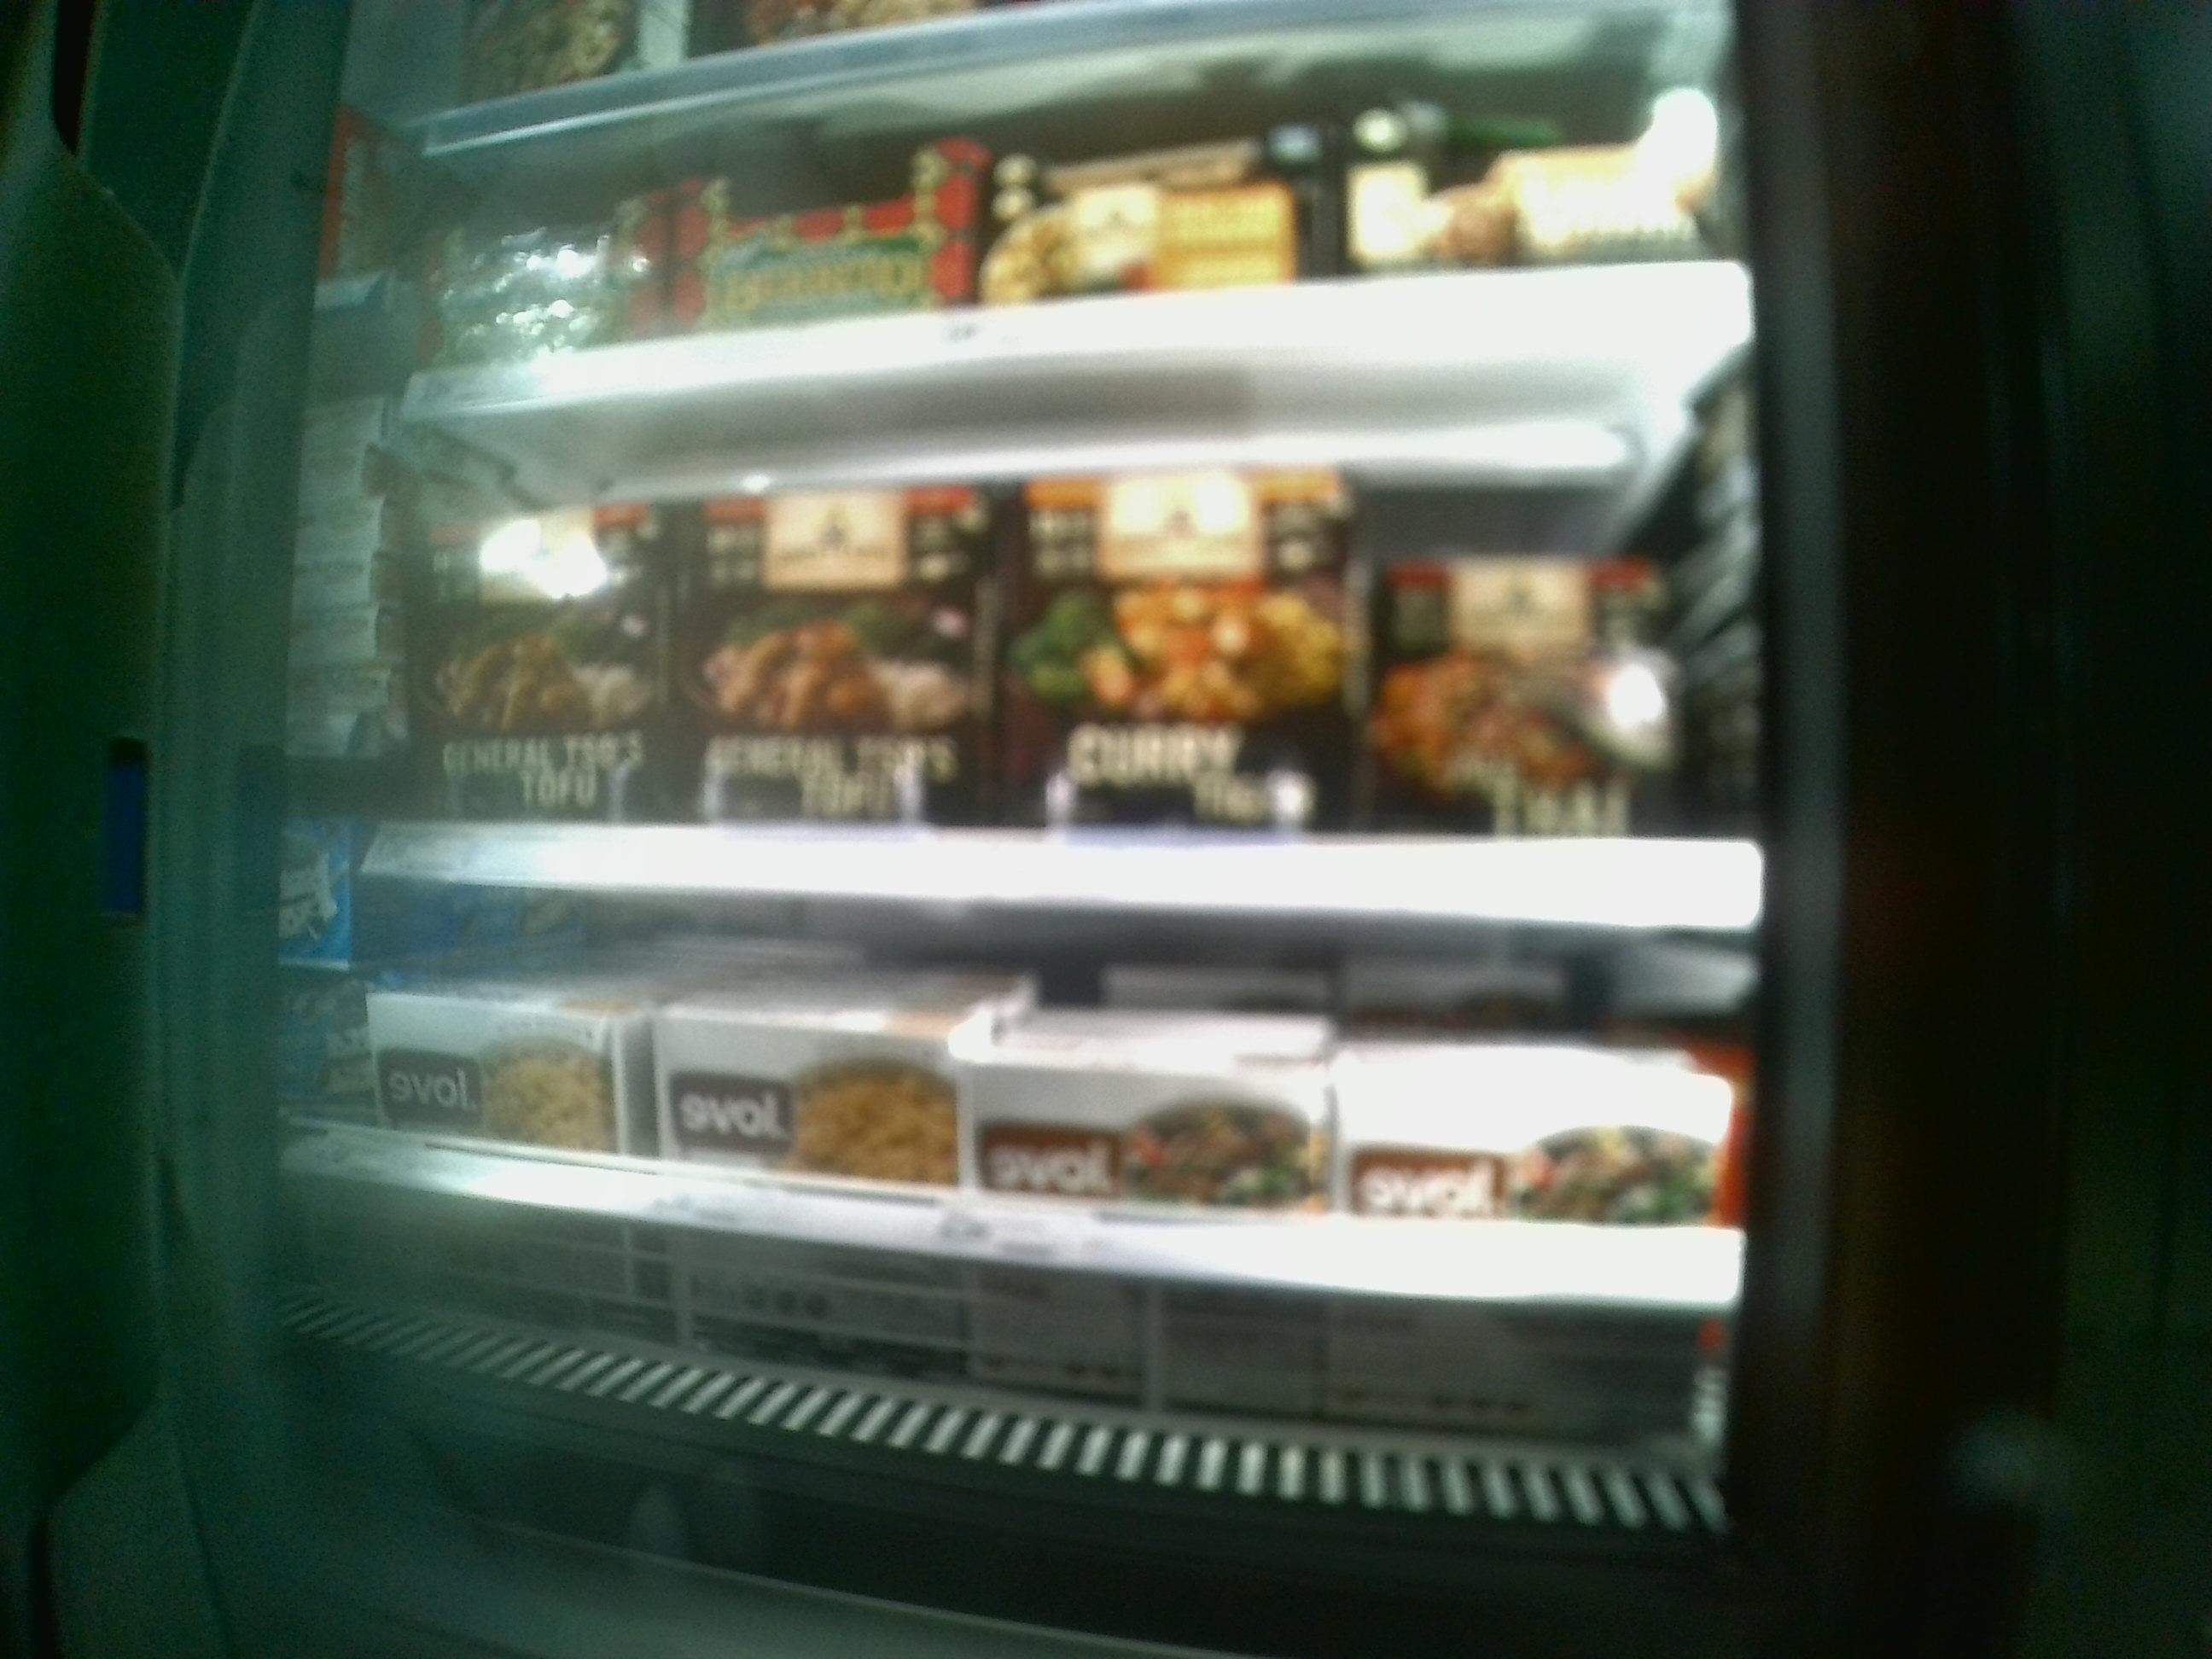frozen-food-shelf: (343, 455, 1775, 927), (246, 929, 1782, 1314)
